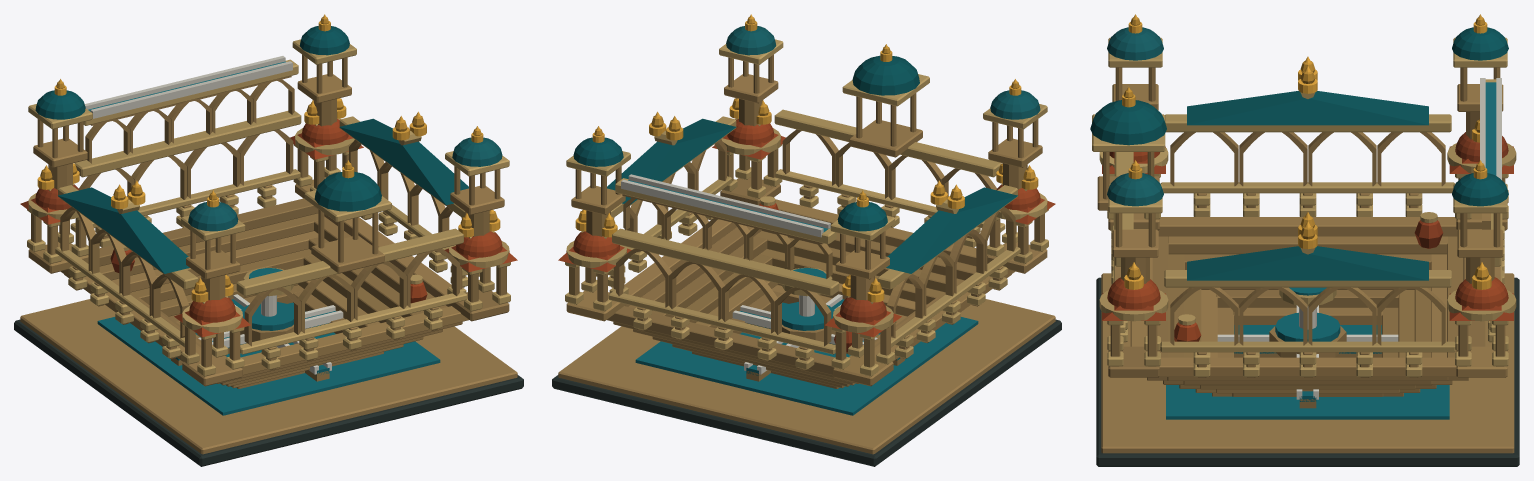
3 renders of one model, left to right at view 1: azimuth 30°, elevation 25°; view 2: azimuth 150°, elevation 25°; view 3: azimuth 270°, elevation 25°, orthographic. The views are drawn at different scales.
Parts seen in each view (by area): view 1: stepwell_level12_structure, stepwell_level12_metal; view 2: stepwell_level12_structure, stepwell_level12_metal; view 3: stepwell_level12_structure, stepwell_level12_metal.
Part boxes in pixels (left/top/right/bottom): stepwell_level12_structure: left=14, top=17, right=523, bottom=466; stepwell_level12_metal: left=37, top=14, right=500, bottom=302; stepwell_level12_structure: left=552, top=17, right=1061, bottom=466; stepwell_level12_metal: left=575, top=14, right=1038, bottom=302; stepwell_level12_structure: left=1090, top=17, right=1519, bottom=466; stepwell_level12_metal: left=1122, top=14, right=1491, bottom=289.
Bounding box in the file's own units: 5.6 × 4.26 × 5.68.
